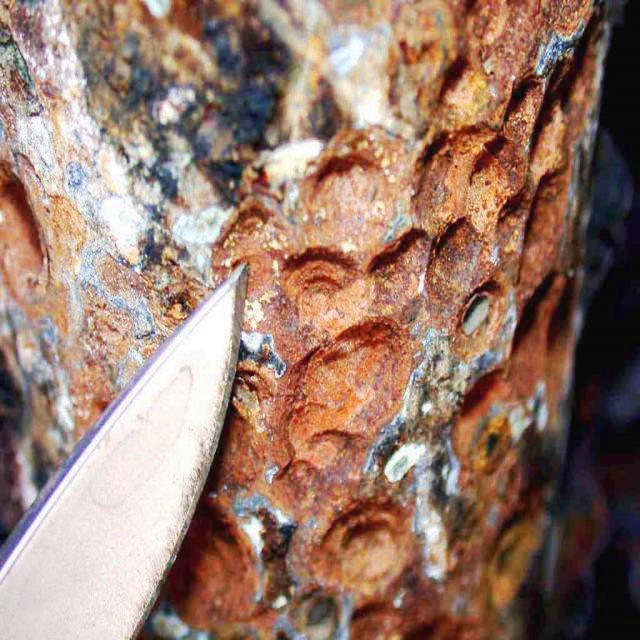Corrosion: (0, 0, 609, 640)
